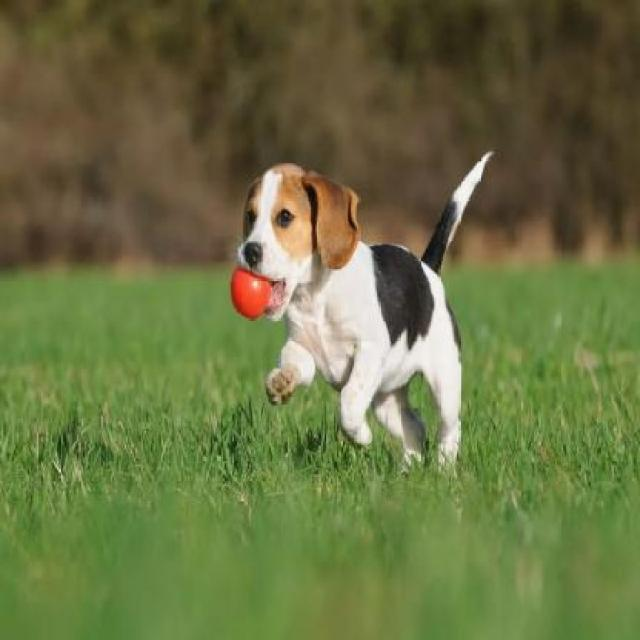animals: (222, 108, 500, 520)
